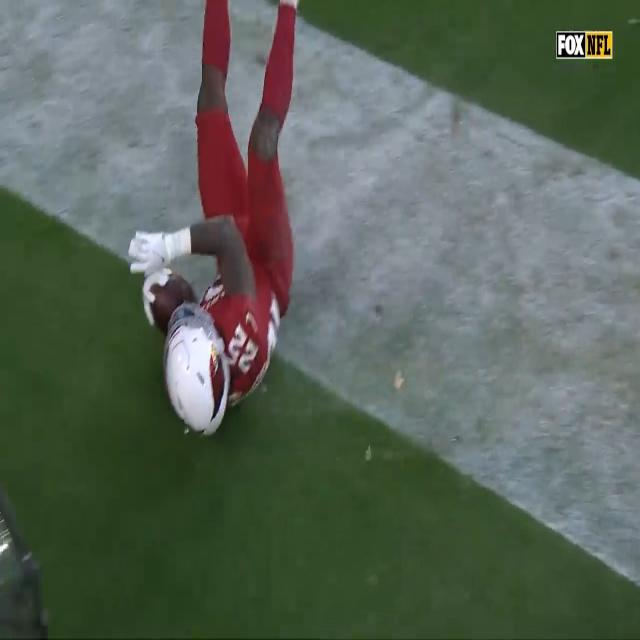Player: (170, 1, 304, 440)
